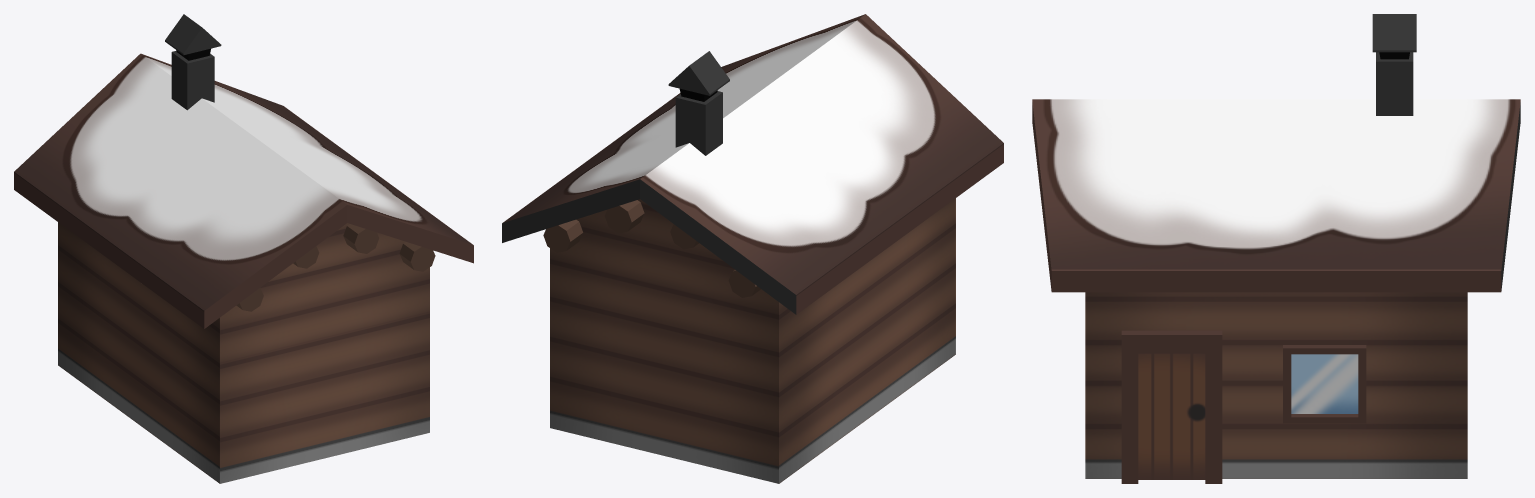
The model's file is House2.fbx.
3 renders of one model, left to right at view 1: azimuth 30°, elevation 25°; view 2: azimuth 150°, elevation 25°; view 3: azimuth 270°, elevation 25°, orthographic. The views are drawn at different scales.
Visible parts, largest first — view 1: Cube.012; view 2: Cube.012; view 3: Cube.012.
Boxes of the visible parts, x1,y1,x2,y2 form: Cube.012: (14,14,473,483); Cube.012: (502,14,1003,483); Cube.012: (1032,14,1520,483).
Bounding box in the file's own units: 447 × 542 × 594.
